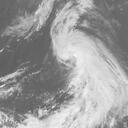cyclone: (47, 26, 107, 92)
